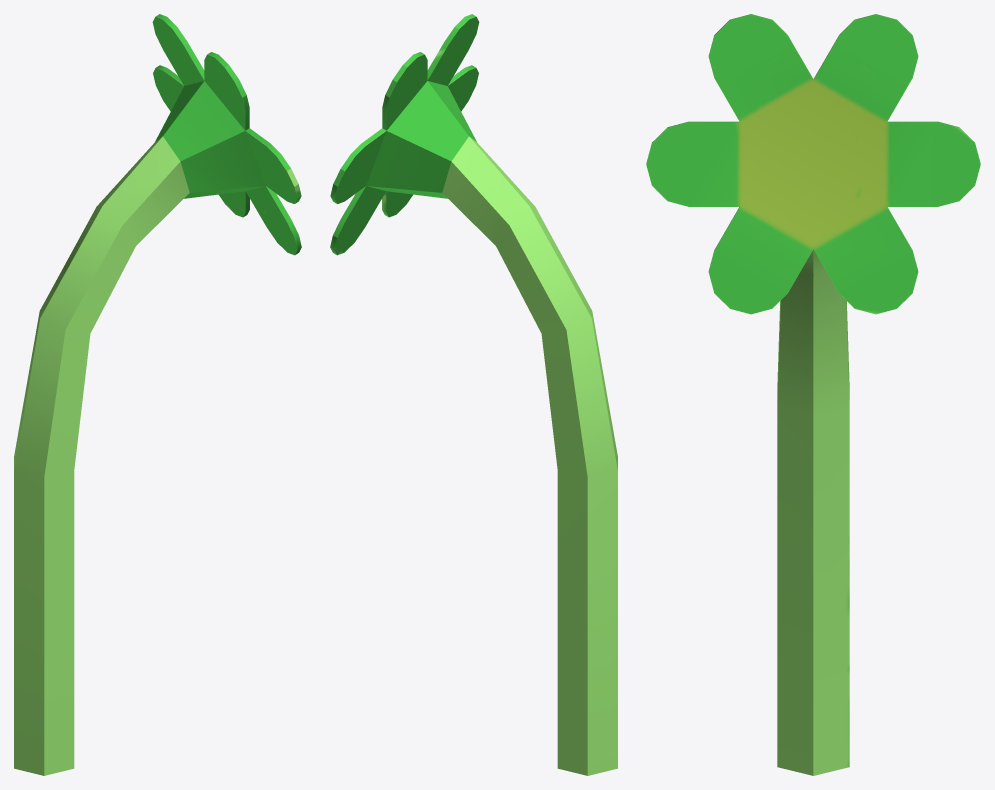
The model's file is flower.fbx.
3 renders of one model, left to right at view 1: azimuth 30°, elevation 25°; view 2: azimuth 150°, elevation 25°; view 3: azimuth 270°, elevation 25°, orthographic. The views are drawn at different scales.
Visible parts, largest first — view 1: bloemmetje; view 2: bloemmetje; view 3: bloemmetje.
Boxes of the visible parts, box(x1,y1,x2,y2) form: bloemmetje: box(14, 14, 301, 775); bloemmetje: box(330, 14, 617, 775); bloemmetje: box(646, 14, 980, 775).
Bounding box in the file's own units: 1.41 × 3.69 × 1.35.
1 material, 1 textured.
